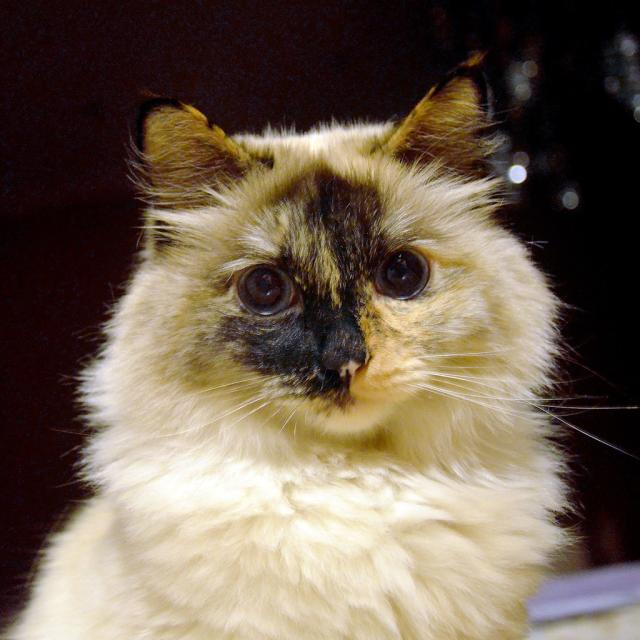Cat: (0, 50, 639, 639)
